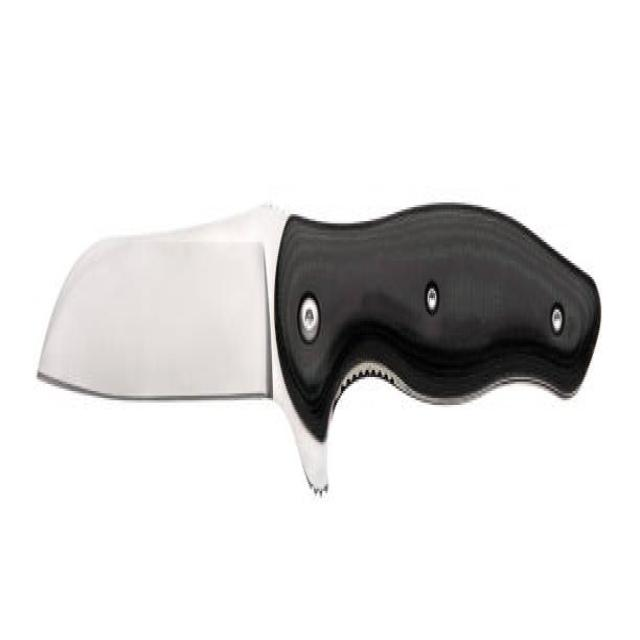knife: (36, 182, 607, 497)
